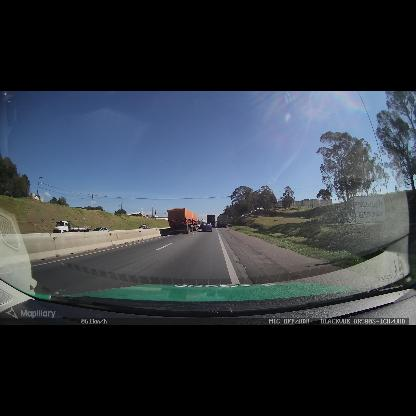I-SA: (353, 196, 386, 224)
